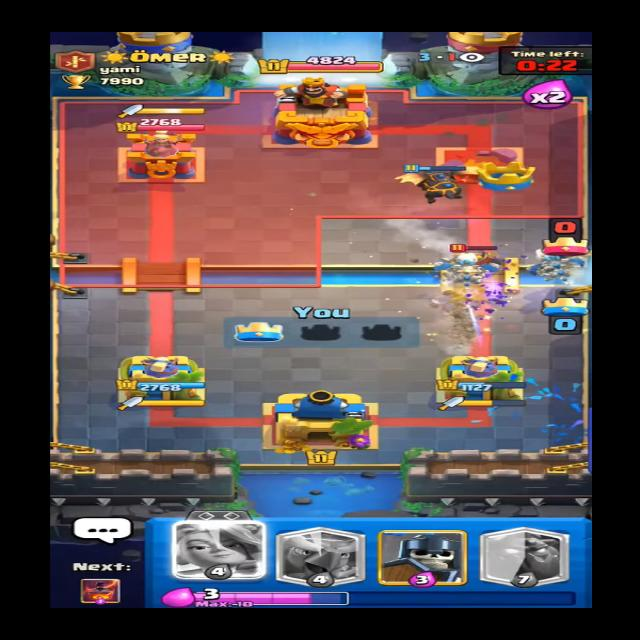knight: (448, 244, 502, 272)
trail: (433, 288, 500, 358)
